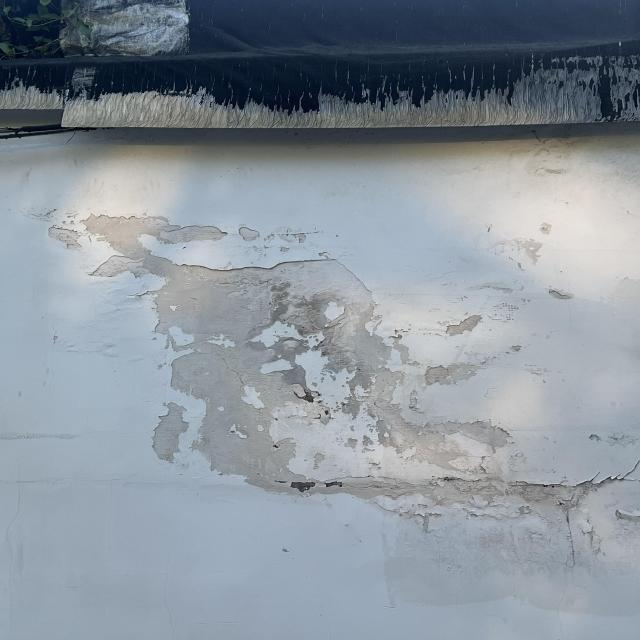spalling: (29, 208, 639, 549)
